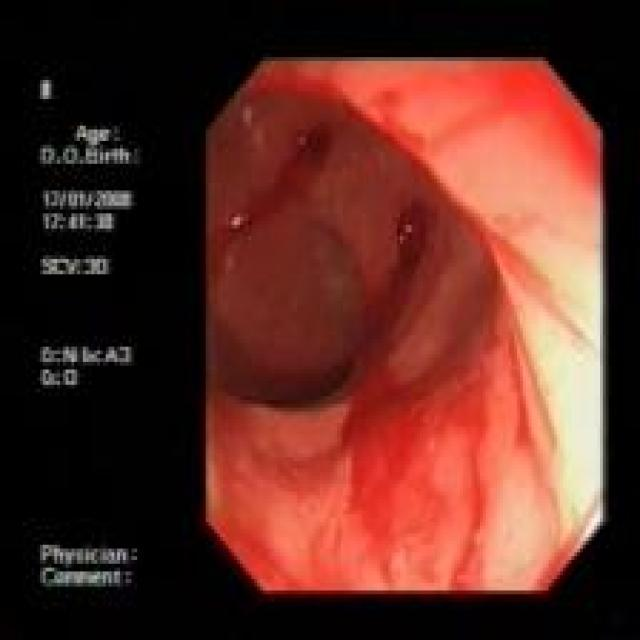blood: (390, 201, 432, 271), (289, 124, 331, 183)
color misalignment: (38, 77, 146, 590)
contrast: (209, 250, 358, 410)
saturation: (468, 121, 600, 553)
specularity: (232, 216, 240, 228)
